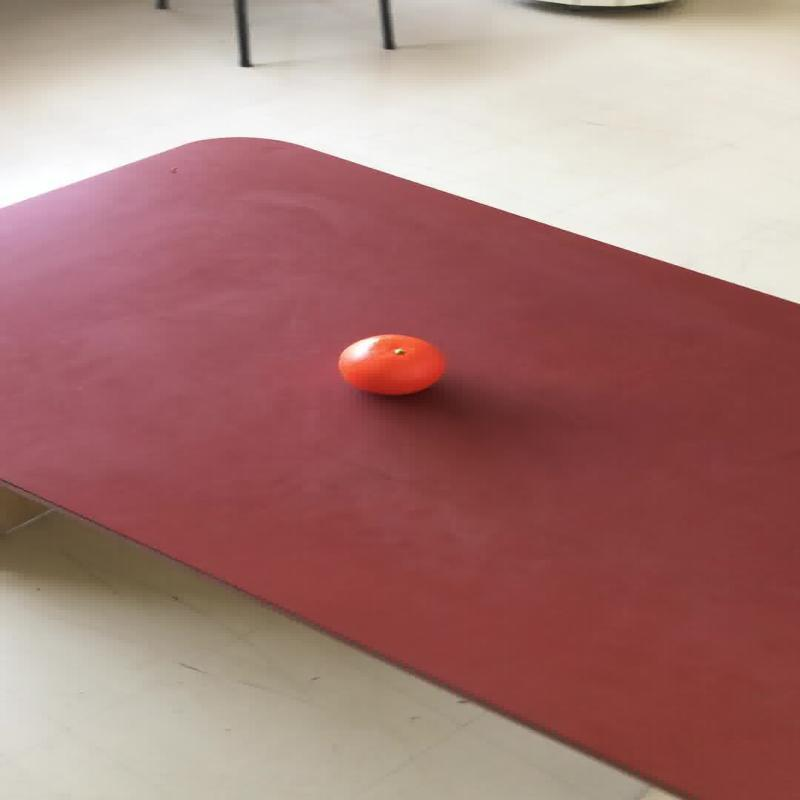orange: (336, 332, 444, 396)
